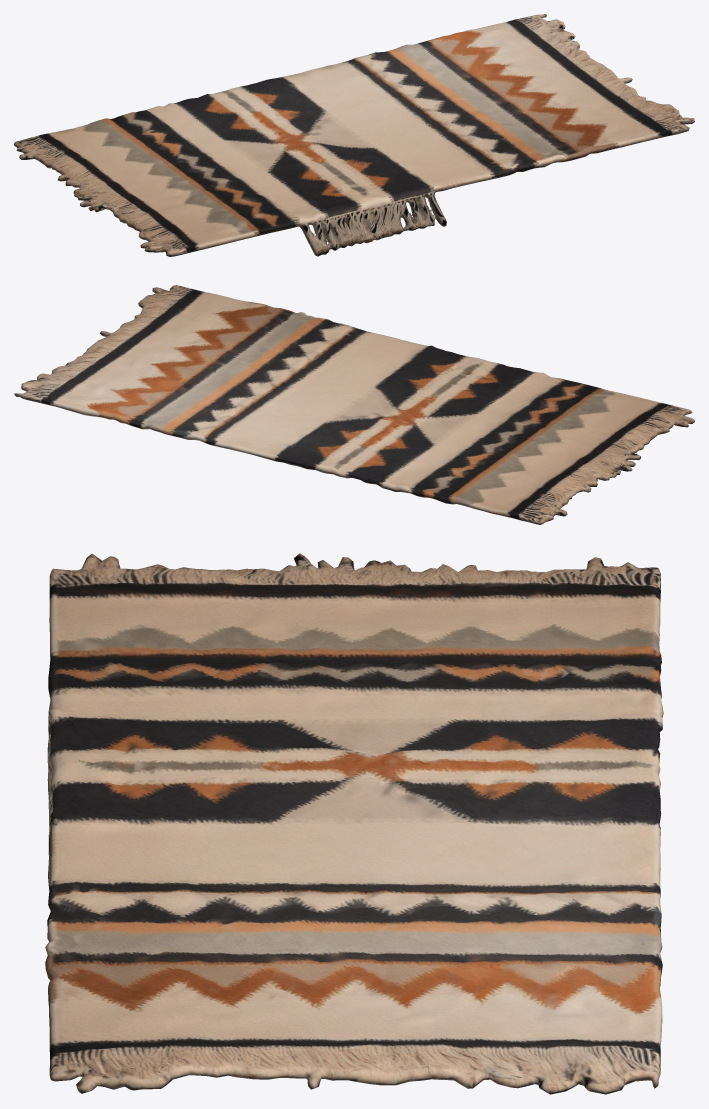
The model's file is Hand-woven wool.gltf.
The picture shows the model from 3 angles, top to bottom: view 1: azimuth 30°, elevation 25°; view 2: azimuth 150°, elevation 25°; view 3: azimuth 270°, elevation 25°; orthographic projection. The views are drawn at different scales.
Visible parts, largest first — view 1: Mesh1.0; view 2: Mesh1.0; view 3: Mesh1.0.
Part boxes in pixels (x1,y1,x2,y2): Mesh1.0: (14,14,694,256); Mesh1.0: (14,285,694,524); Mesh1.0: (45,553,663,1094).
Bounding box in the file's own units: 2.01 × 0.1604 × 0.9881.
Materials: 1 (1 with a texture image).
